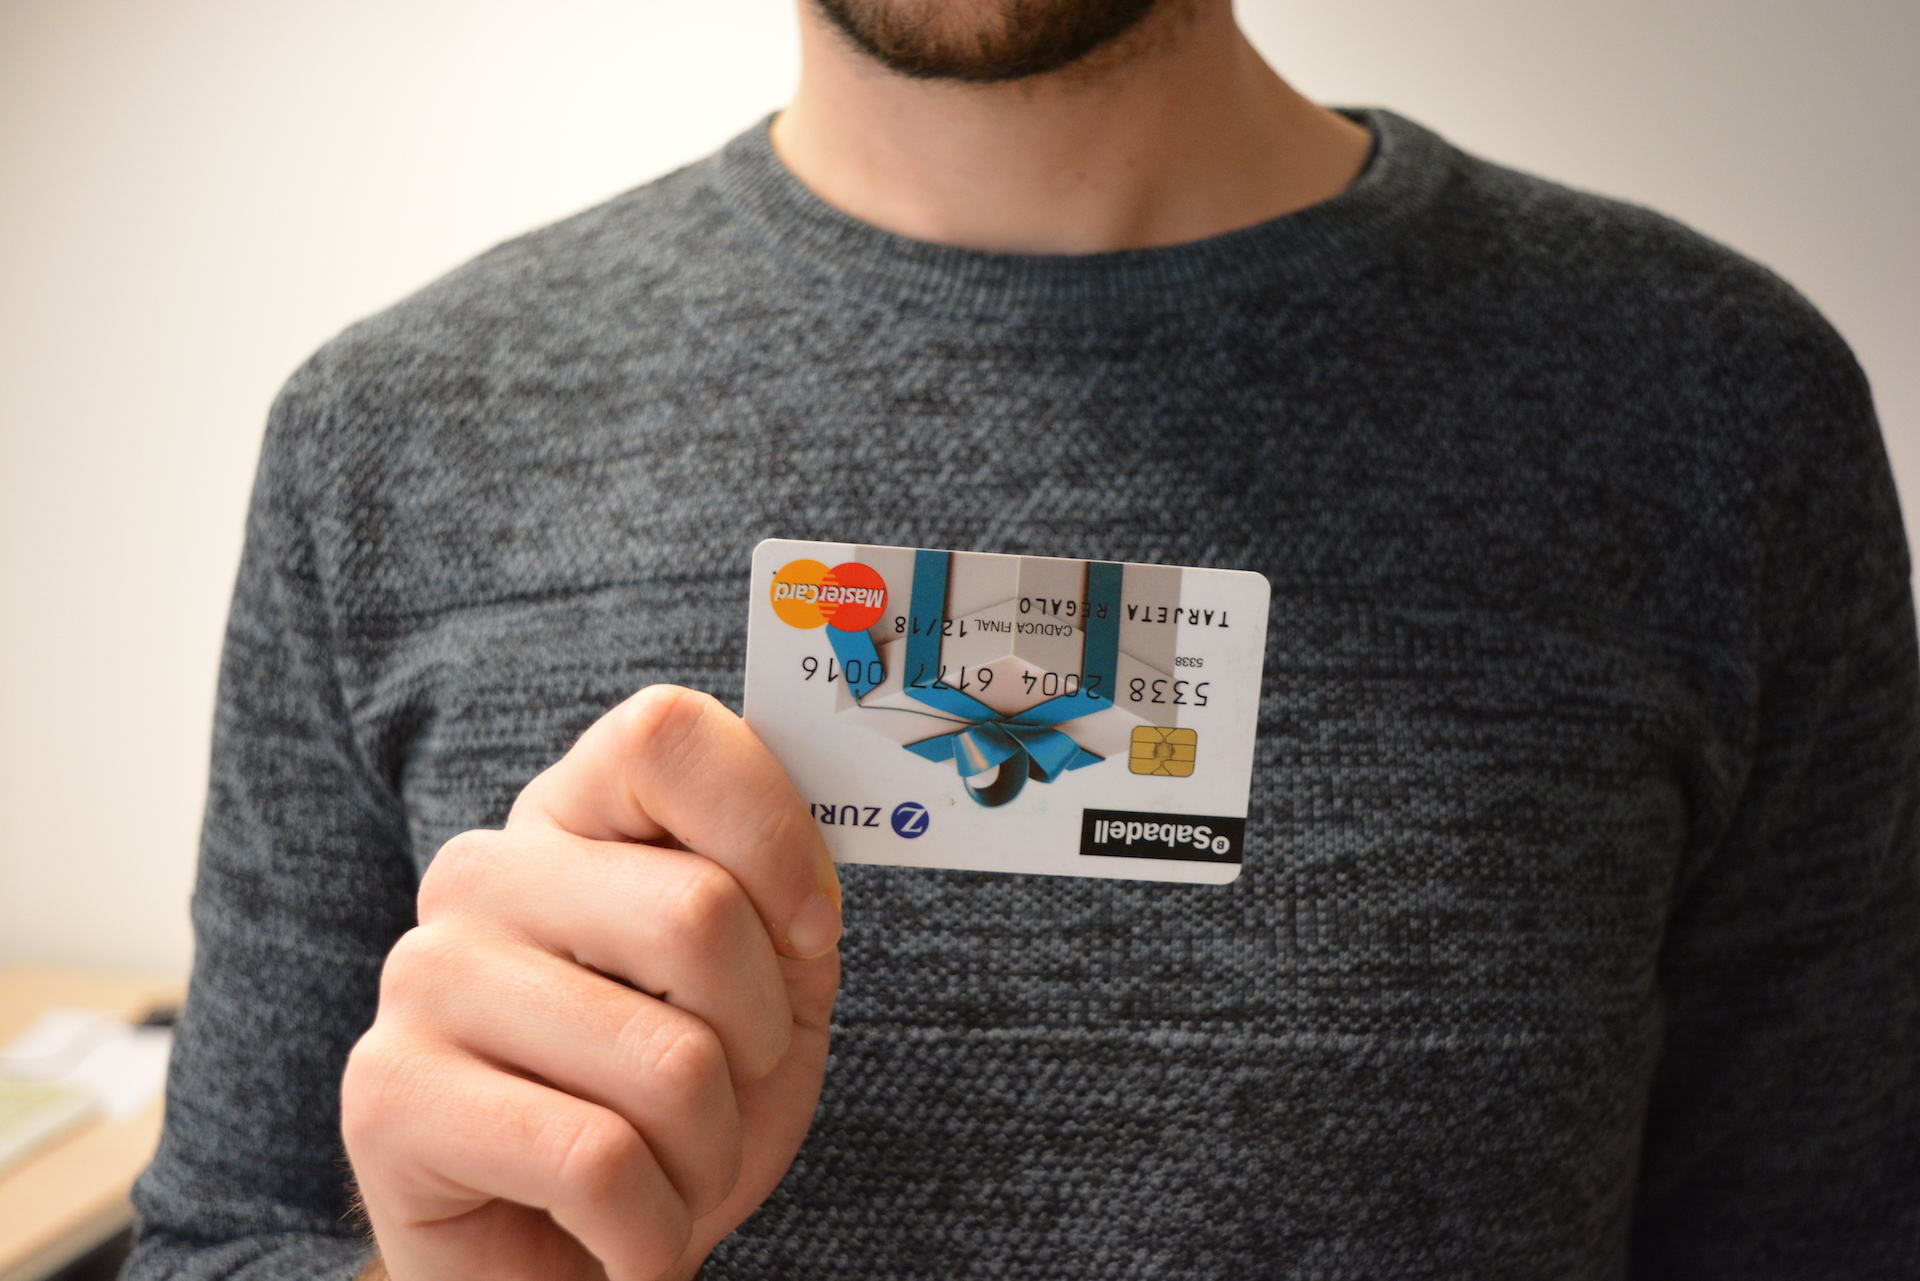tarjeta: (741, 536, 1272, 888)
